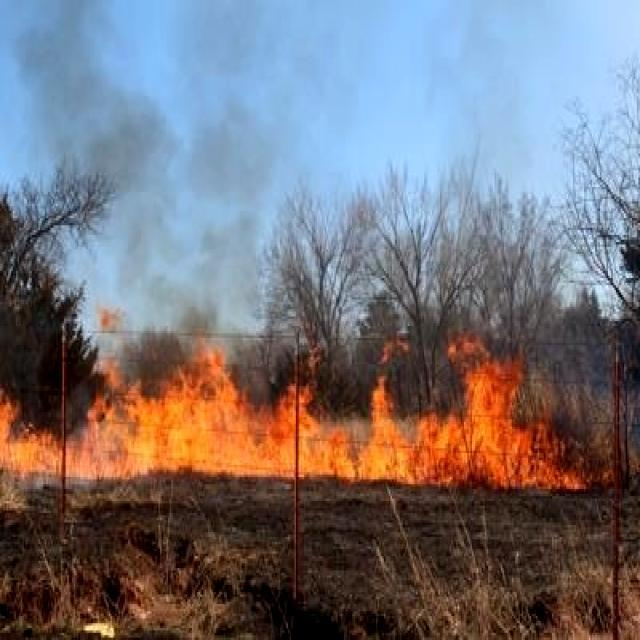Fire: (0, 353, 575, 507)
Smoke: (0, 0, 311, 356)
